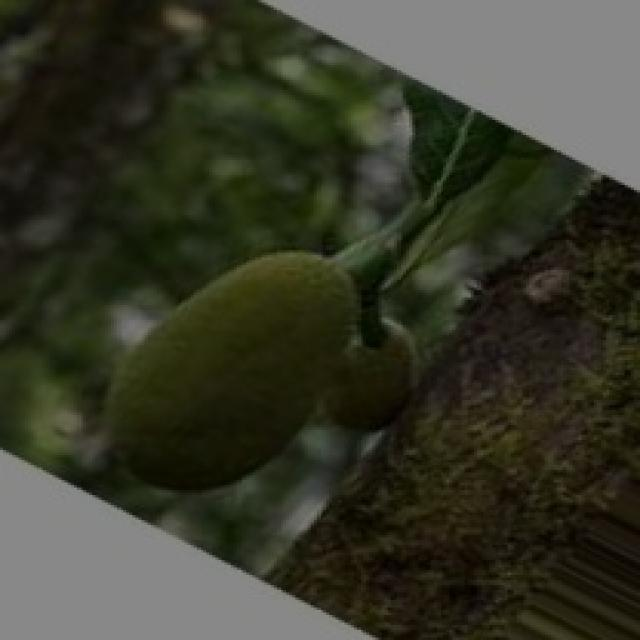Fruit: (46, 215, 391, 533)
